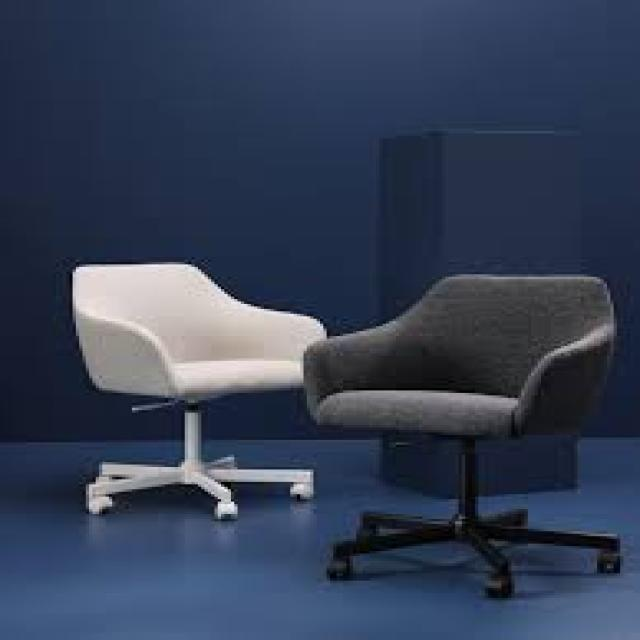chair: (291, 244, 640, 640), (29, 249, 344, 586)
